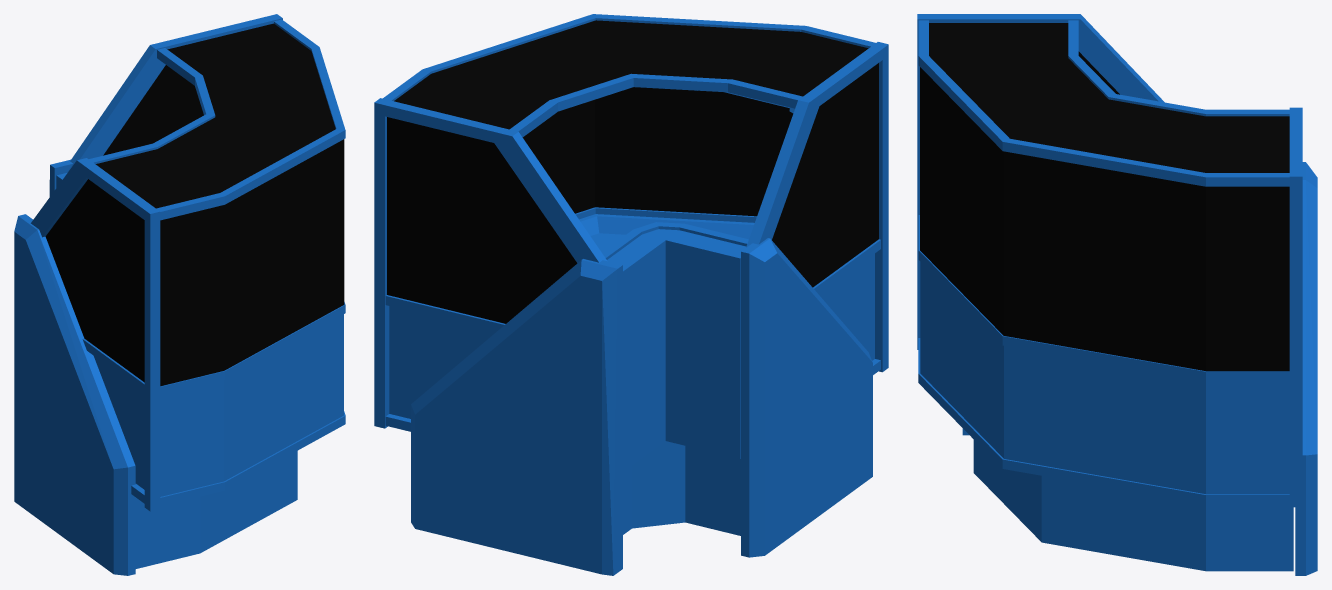
Rendered from SM_display_case.fbx.
The picture shows the model from 3 angles, left to right: view 1: azimuth 30°, elevation 25°; view 2: azimuth 150°, elevation 25°; view 3: azimuth 270°, elevation 25°; orthographic projection. The views are drawn at different scales.
Parts seen in each view (by area): view 1: Cylinder; view 2: Cylinder; view 3: Cylinder.
Part boxes in pixels (x1=…): Cylinder: x1=14, y1=14, x2=345, y2=575; Cylinder: x1=374, y1=14, x2=888, y2=575; Cylinder: x1=917, y1=14, x2=1317, y2=575.
Bounding box in the file's own units: 116 × 134 × 116.
